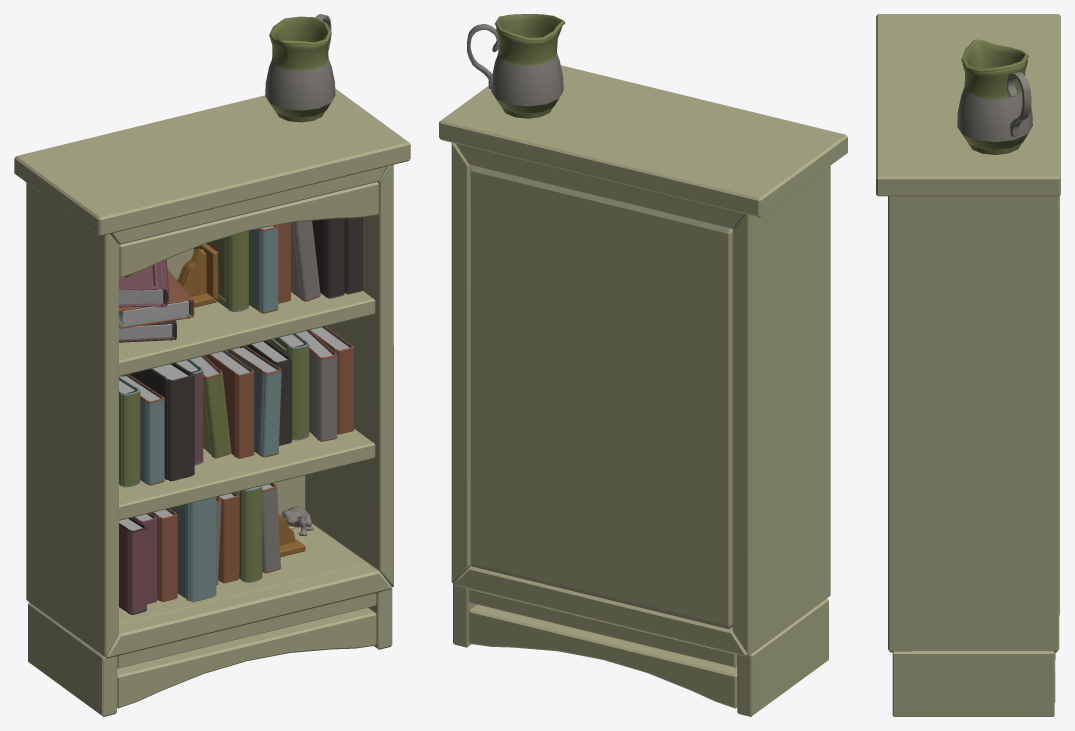
The model's file is BookCase.fbx.
3 views of the same model, side by side, from view 1: azimuth 30°, elevation 25°; view 2: azimuth 150°, elevation 25°; view 3: azimuth 270°, elevation 25° (orthographic). The views are drawn at different scales.
Parts seen in each view (by area): view 1: BookCase; view 2: BookCase; view 3: BookCase.
Boxes of the visible parts, x1=… form: BookCase: x1=14, y1=14, x2=410, y2=716; BookCase: x1=439, y1=14, x2=847, y2=716; BookCase: x1=876, y1=14, x2=1060, y2=716.
Size of the model in its own units: 2.27 by 4.13 by 1.08.
